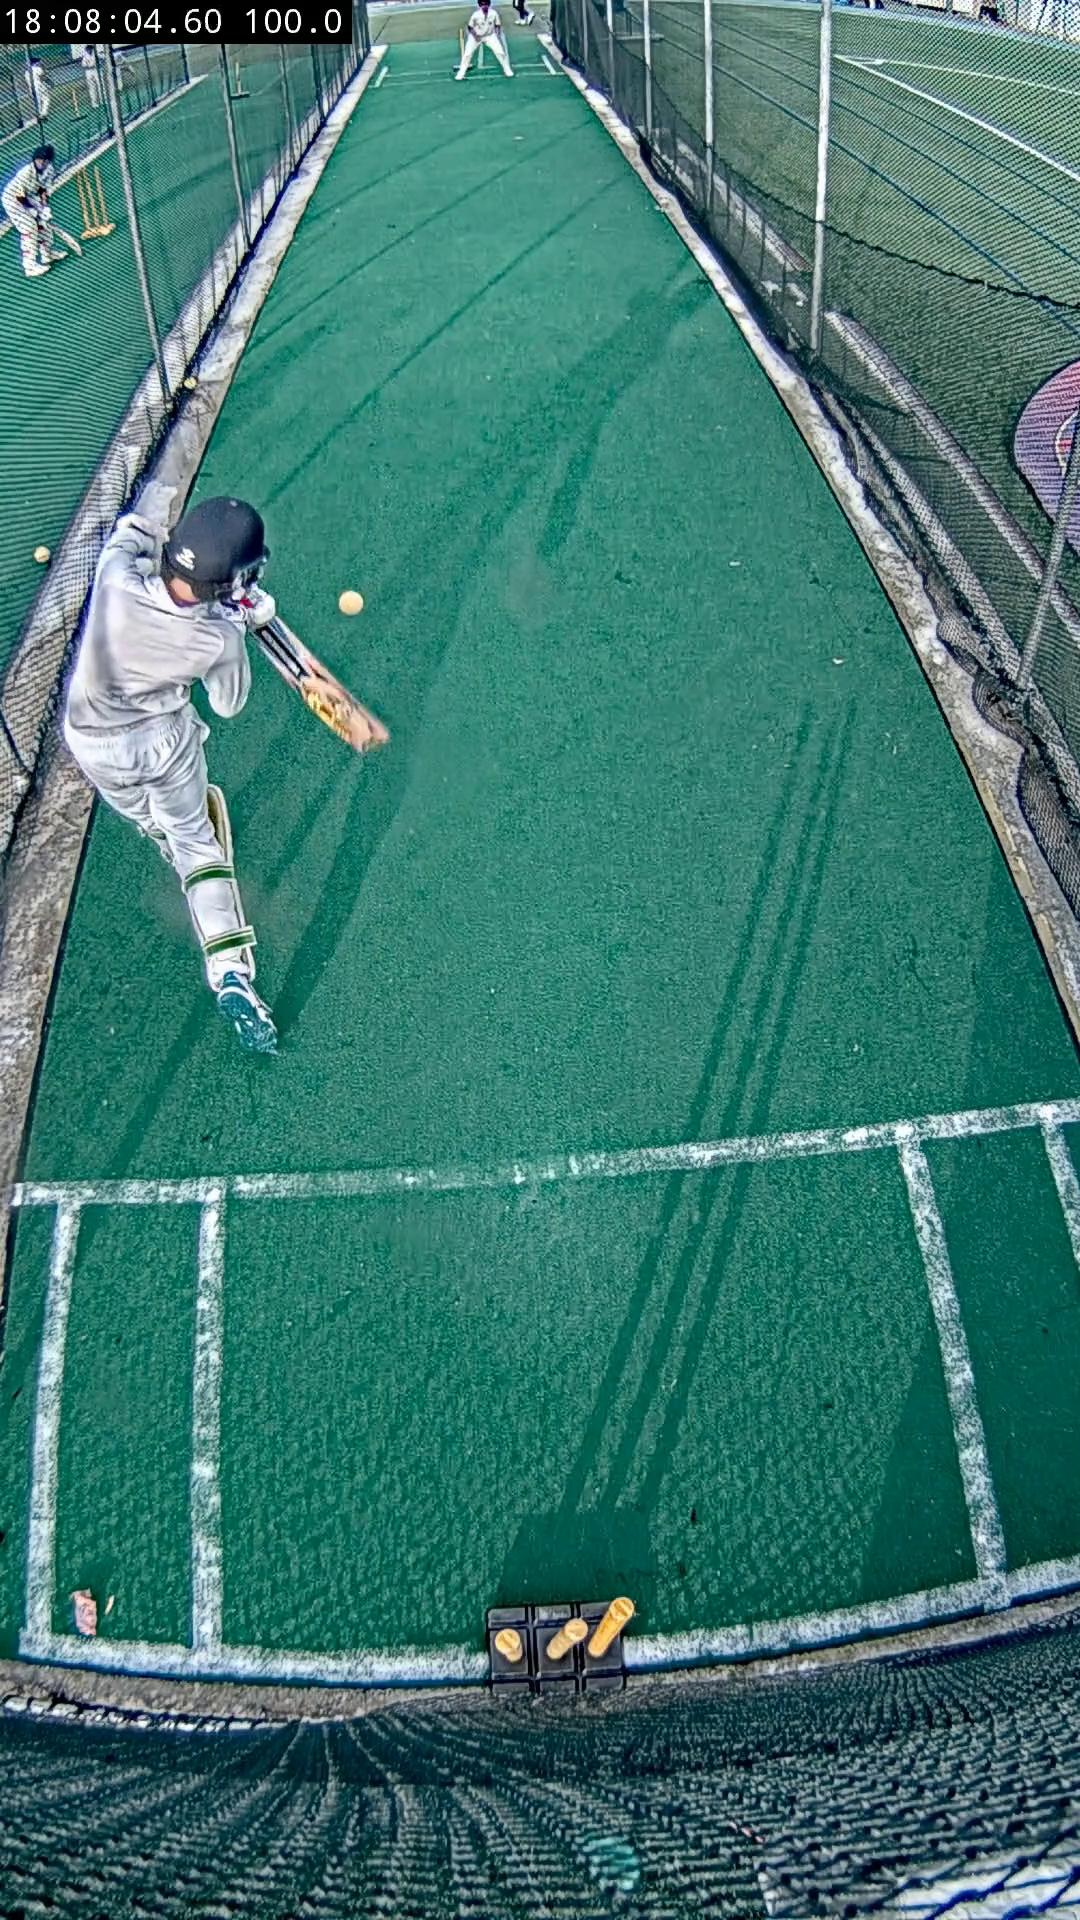ball: (338, 588, 364, 613)
bat: (255, 618, 390, 750)
helmet: (165, 495, 266, 600)
stumps: (488, 1597, 634, 1695)
